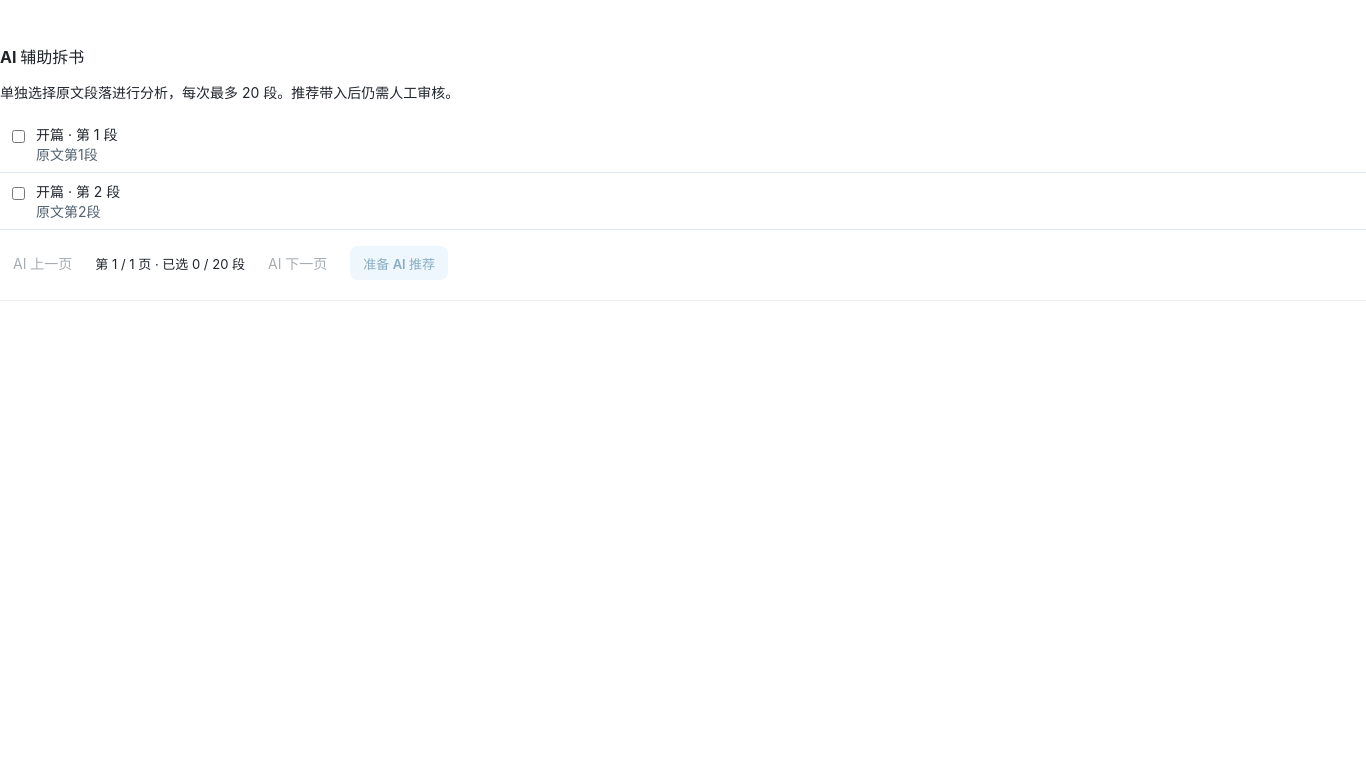
Test: 发送前显示服务、范围、完整材料和费用；Escape取消授权并恢复焦点，零云执行
The image size is (1366, 768).
Click the checkbox named "AI 分析段落 1". click: (18, 136)
box: [12,130,25,143]
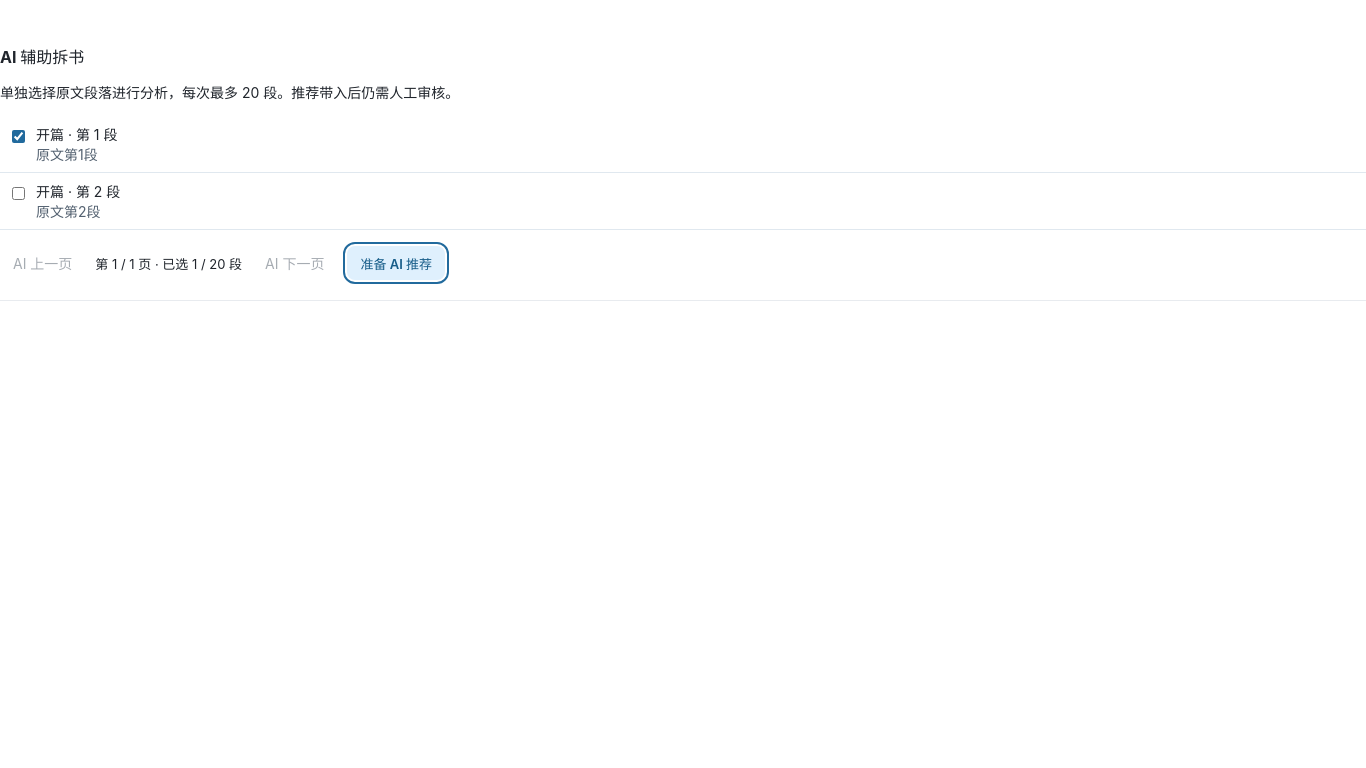
Click the button "准备 AI 推荐". click: (396, 263)
box: [348,246,445,280]
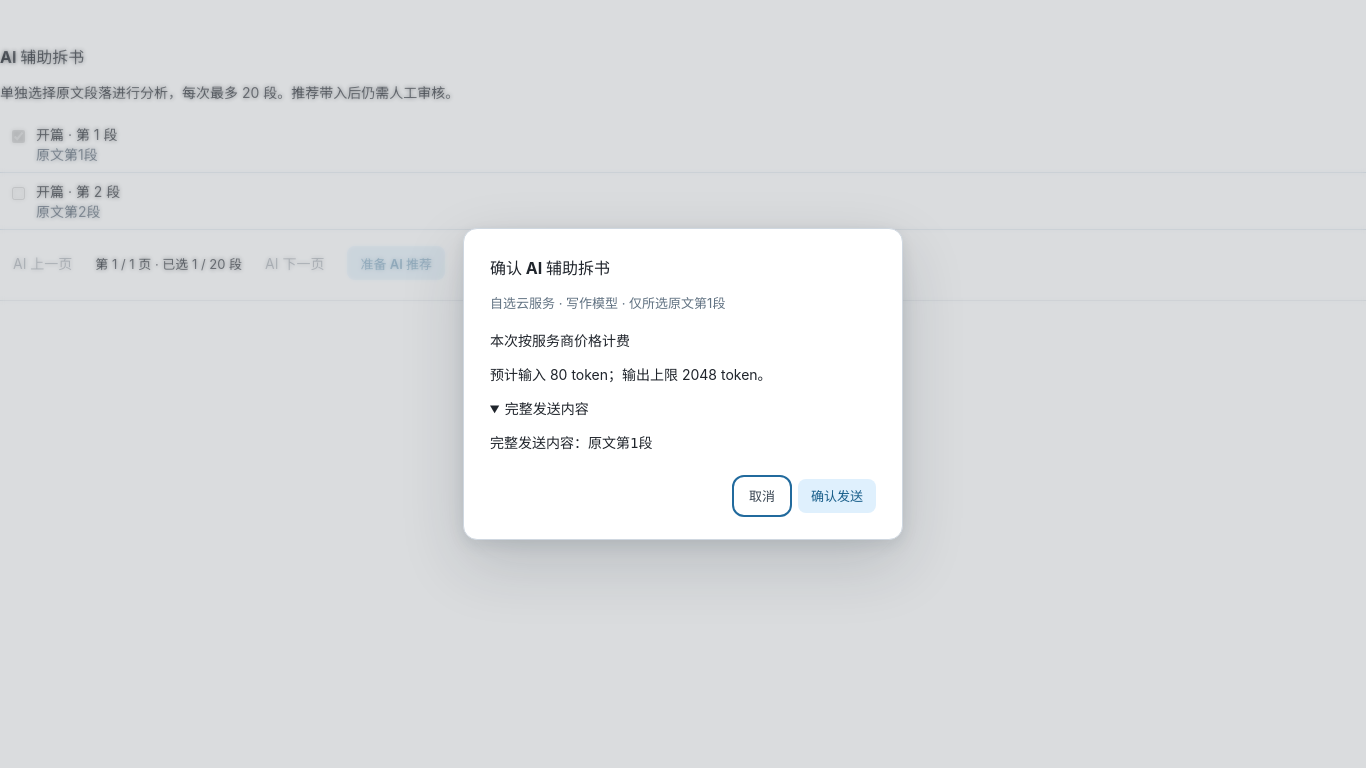
expect the text "自选云服务 · 写作模型 · 仅所选原文第1段" is shown: met, box [490,295,725,311]
expect the text "完整发送内容：原文第1段" is shown: met, box [490,435,652,451]
expect the text "本次按服务商价格计费" is shown: met, box [490,332,630,349]
Press Escape in the dialog "确认 AI 辅助拆书", box [463,228,903,540]
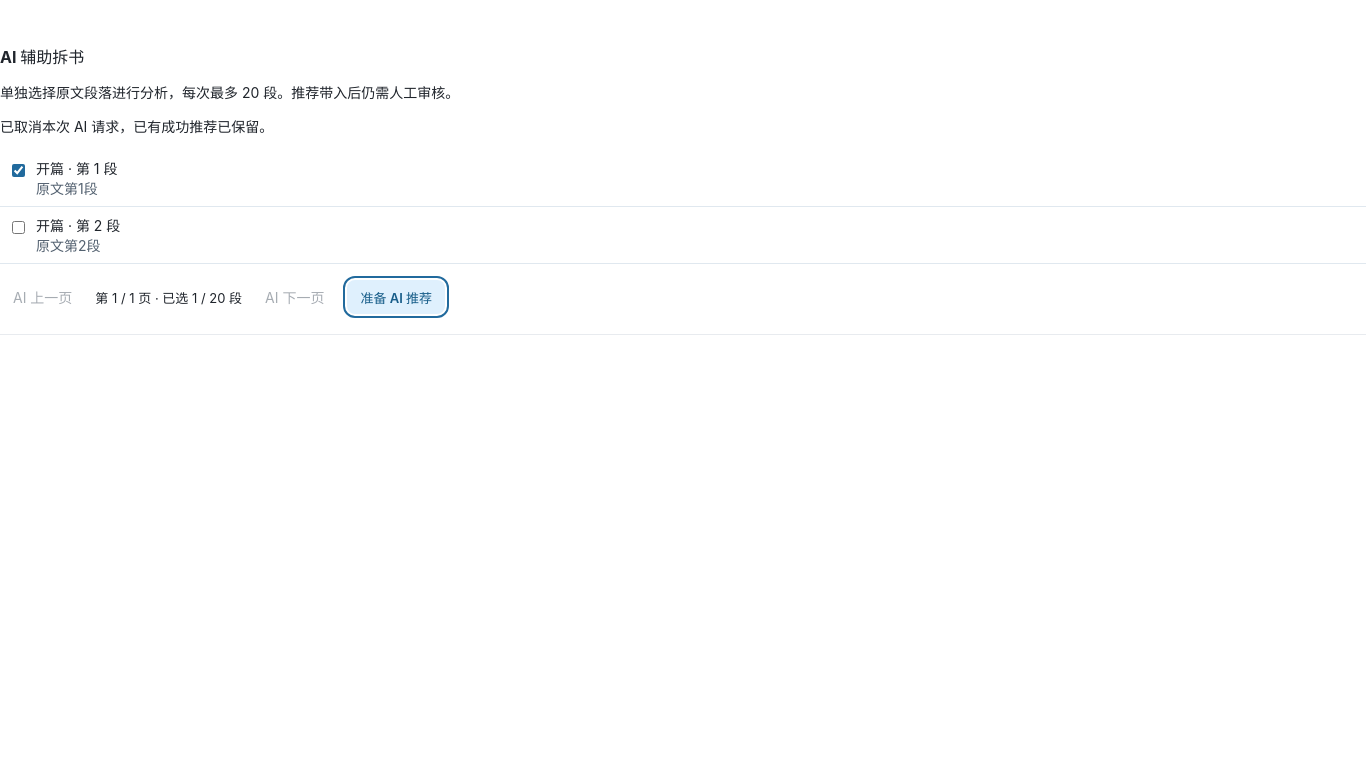
expect the dialog is gone: met
